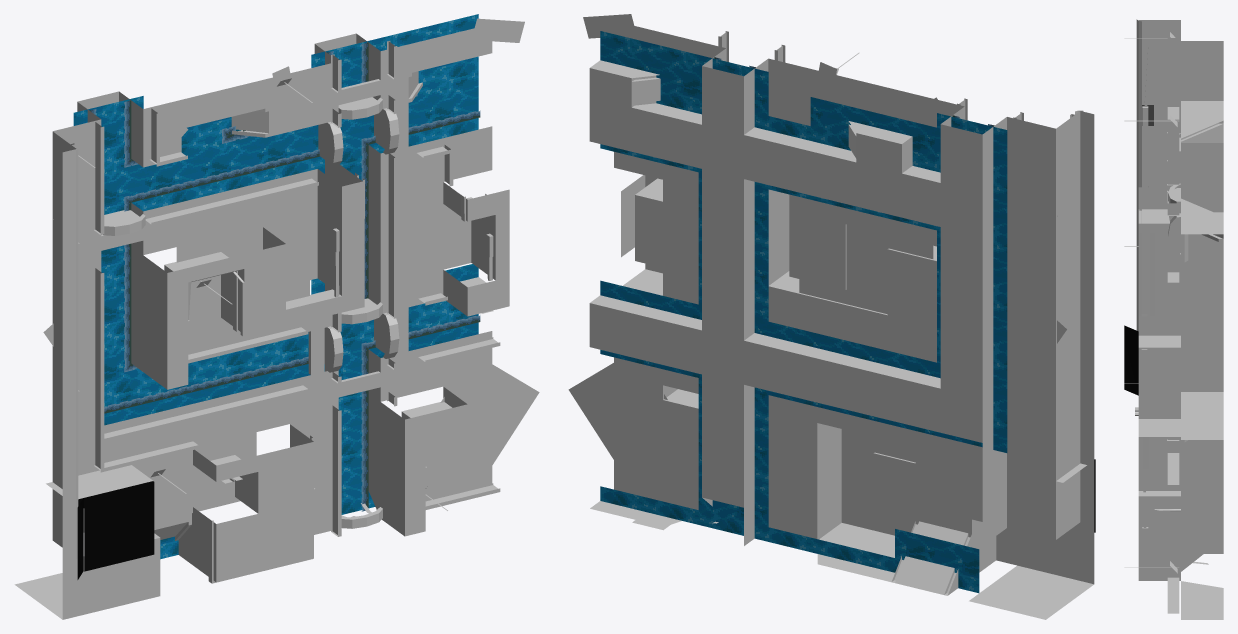
File: Sewer-Main_00_02.obj
The picture shows the model from 3 angles, left to right: view 1: azimuth 30°, elevation 25°; view 2: azimuth 150°, elevation 25°; view 3: azimuth 270°, elevation 25°; orthographic projection. The views are drawn at different scales.
Parts seen in each view (by area): view 1: map; view 2: map; view 3: map.
Part boxes in pixels (x1,y1,x2,y2): map: (14, 14, 539, 619); map: (568, 14, 1095, 619); map: (1124, 19, 1223, 619).
Size of the model in its own units: 35.81 by 32.94 by 7.
